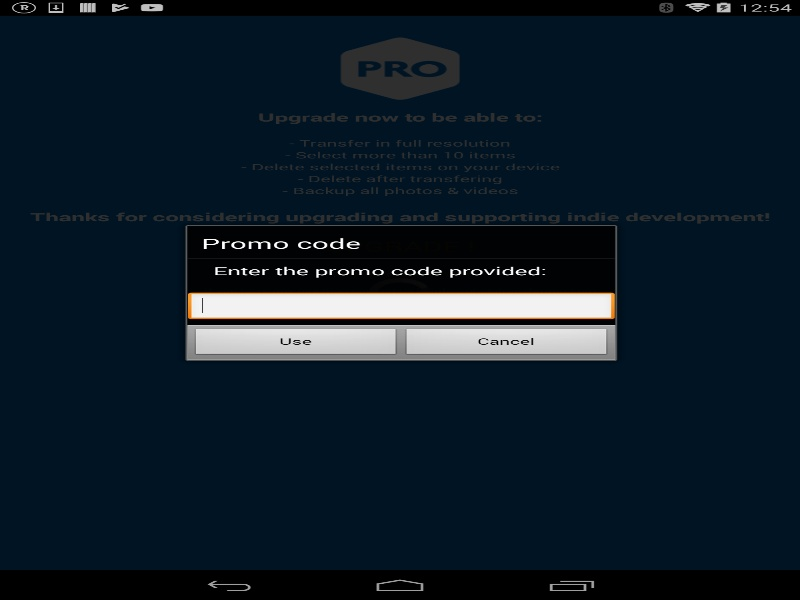Button: (190, 327, 401, 357), (401, 327, 612, 357)
Input: (188, 292, 614, 322)
